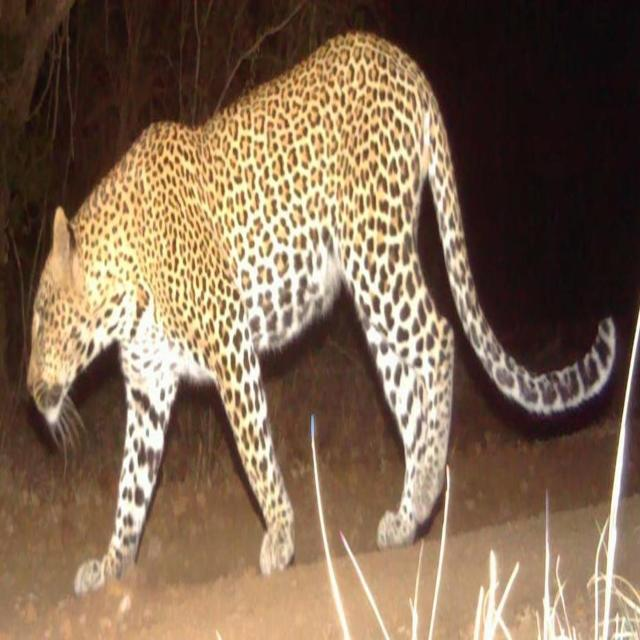Leopard: (35, 67, 608, 608)
